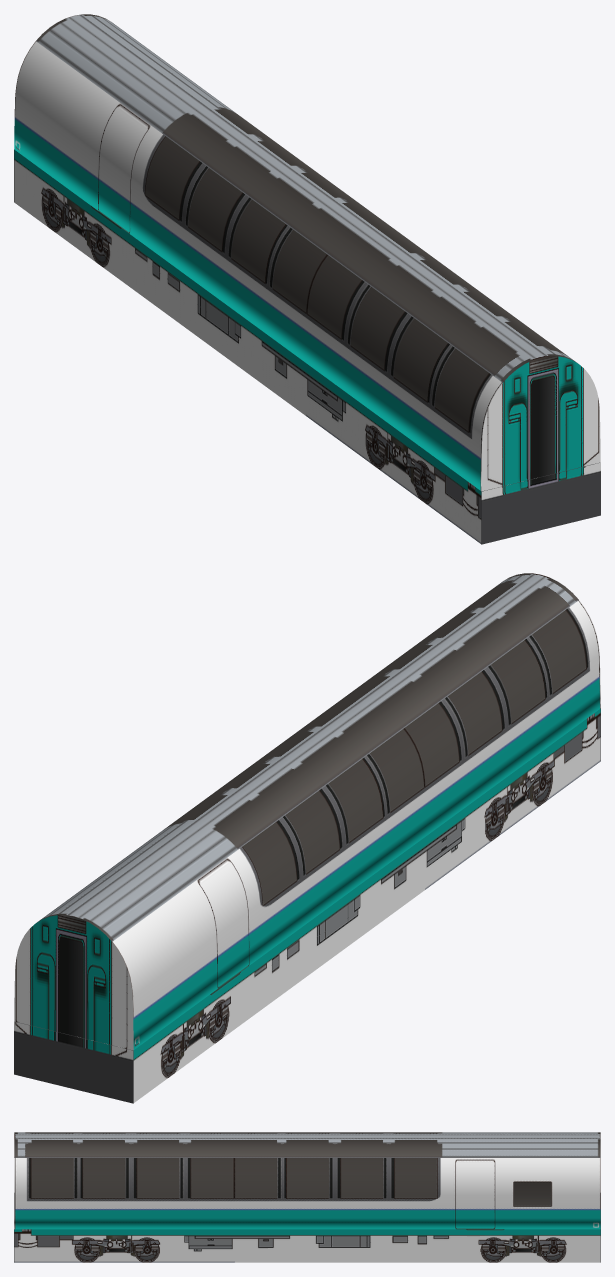
Rendered from car2.glb.
3 renders of one model, top to bottom at view 1: azimuth 30°, elevation 25°; view 2: azimuth 150°, elevation 25°; view 3: azimuth 270°, elevation 25°, orthographic. The views are drawn at different scales.
Parts seen in each view (by area): view 1: jr-east-251-car2; view 2: jr-east-251-car2; view 3: jr-east-251-car2.
Boxes of the visible parts, x1=… form: jr-east-251-car2: x1=14, y1=14, x2=600, y2=544; jr-east-251-car2: x1=14, y1=573, x2=600, y2=1103; jr-east-251-car2: x1=14, y1=1132, x2=600, y2=1262.
Bounding box in the file's own units: 2.95 × 4.07 × 20.03.
Materials: 9 (8 with a texture image).
